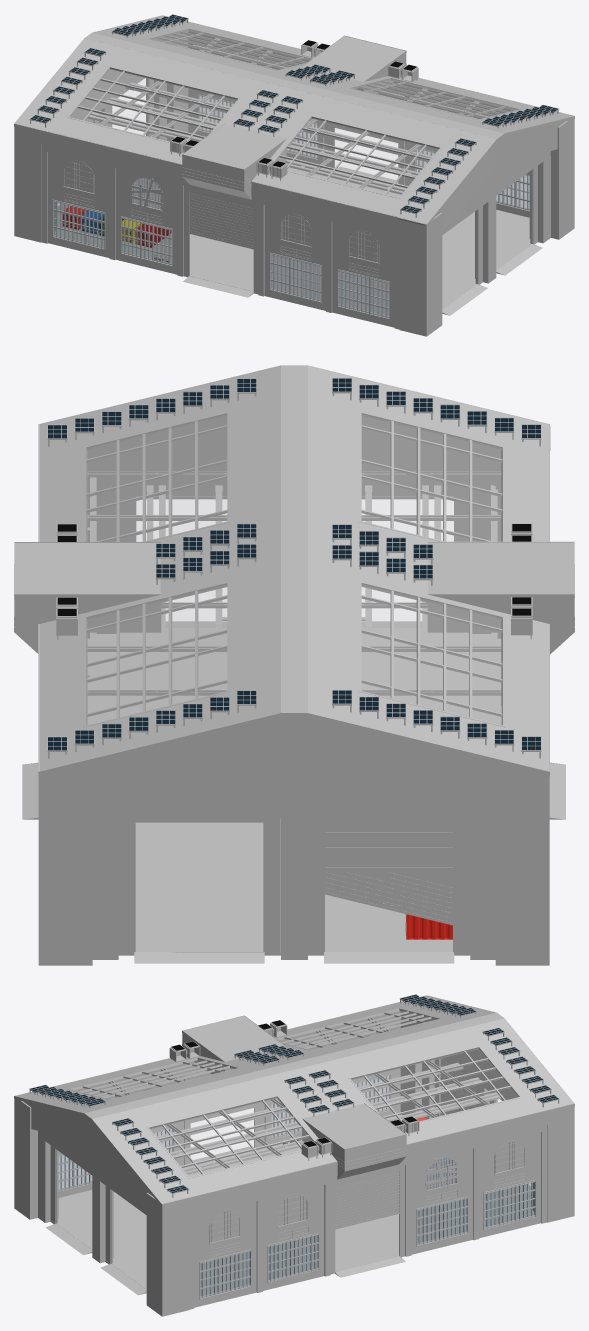
The model's file is Warehouse.obj.
The picture shows the model from 3 angles, top to bottom: view 1: azimuth 30°, elevation 25°; view 2: azimuth 150°, elevation 25°; view 3: azimuth 270°, elevation 25°; orthographic projection. The views are drawn at different scales.
Parts seen in each view (by area): view 1: Basefloor226, Roof211, Roof224, Basefloor141, Basefloor127, Roof32, Roof234, Roof235, Basefloor227, Union18, Roof233, Roof229 (+68 smaller); view 2: Basefloor226, Union12, Basefloor151, Roof113, Roof224, Roof97, Roof211, Union13, Basefloor216, Roof32, Basefloor227, Union18 (+42 smaller); view 3: Basefloor226, Roof97, Roof113, Basefloor70, Basefloor56, Roof32, Roof87, Roof51, Basefloor216, Roof33, Union18, Roof102 (+69 smaller).
Part boxes in pixels (left/top/right/bottom): Basefloor226: left=54, top=135, right=530, bottom=316; Roof211: left=275, top=118, right=438, bottom=196; Roof224: left=70, top=68, right=236, bottom=141; Basefloor141: left=399, top=213, right=442, bottom=336; Basefloor127: left=41, top=133, right=399, bottom=231; Roof32: left=85, top=33, right=503, bottom=138; Roof234: left=386, top=129, right=495, bottom=223; Roof235: left=15, top=38, right=124, bottom=133; Basefloor227: left=14, top=127, right=56, bottom=242; Union18: left=398, top=121, right=565, bottom=232; Roof233: left=214, top=80, right=326, bottom=182; Roof229: left=111, top=48, right=253, bottom=97; Basefloor226: left=87, top=628, right=501, bottom=951; Union12: left=60, top=718, right=547, bottom=818; Basefloor151: left=92, top=764, right=495, bottom=818; Roof113: left=87, top=585, right=226, bottom=724; Roof224: left=362, top=585, right=501, bottom=724; Roof97: left=87, top=415, right=226, bottom=541; Roof211: left=362, top=415, right=501, bottom=541; Union13: left=325, top=819, right=452, bottom=922; Basefloor216: left=38, top=772, right=92, bottom=965; Roof32: left=281, top=366, right=307, bottom=712; Basefloor227: left=495, top=776, right=549, bottom=965; Union18: left=87, top=417, right=550, bottom=487; Basefloor226: left=57, top=1114, right=534, bottom=1296; Roof97: left=150, top=1097, right=312, bottom=1176; Roof113: left=352, top=1048, right=518, bottom=1121; Basefloor70: left=146, top=1193, right=189, bottom=1316; Basefloor56: left=189, top=1113, right=547, bottom=1211; Roof32: left=85, top=1013, right=503, bottom=1118; Roof87: left=93, top=1109, right=202, bottom=1203; Roof51: left=464, top=1018, right=573, bottom=1113; Basefloor216: left=532, top=1106, right=574, bottom=1222; Roof33: left=262, top=1060, right=374, bottom=1162; Union18: left=23, top=1101, right=152, bottom=1212; Roof102: left=133, top=1077, right=276, bottom=1126.
Size of the model in its own units: 248 by 81.03 by 281.
